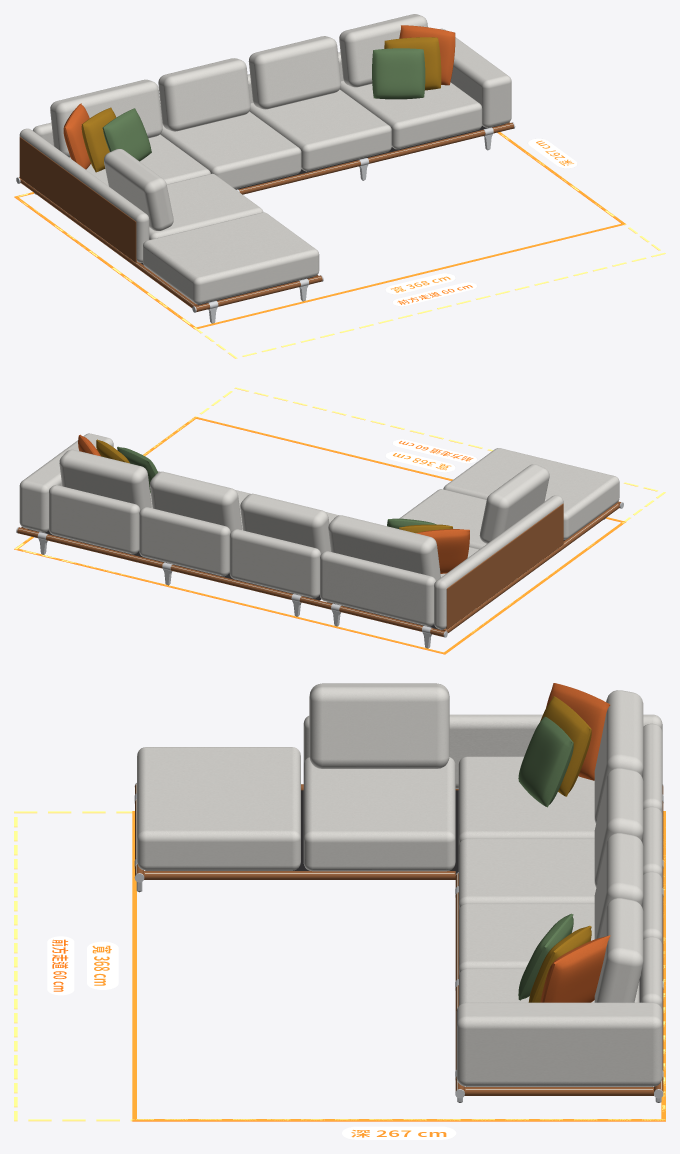
Rendered from ownLetItBe-f.glb.
The picture shows the model from 3 angles, top to bottom: view 1: azimuth 30°, elevation 25°; view 2: azimuth 150°, elevation 25°; view 3: azimuth 270°, elevation 25°; orthographic projection. The views are drawn at different scales.
Parts seen in each view (by area): view 1: object 64, object 60, object 61, ar-frame, object 67, object 59, object 66, object 58, object 63, object 68, object 56, object 69 (+12 smaller); view 2: object 64, object 55, object 58, ar-frame, object 54, object 53, object 52, object 68, object 65, object 66, object 67, object 69 (+8 smaller); view 3: object 64, object 56, object 63, object 69, ar-frame, object 61, object 62, object 60, object 57, object 65, object 68, object 67 (+16 smaller).
Boxes of the visible parts, box(x1,y1,x2,y2) form: object 64: box(143, 212, 319, 304); object 60: box(249, 89, 391, 171); object 61: box(160, 111, 301, 189); ar-frame: box(14, 132, 665, 358); object 67: box(158, 58, 250, 131); object 59: box(340, 80, 482, 149); object 66: box(248, 36, 340, 109); object 58: box(19, 137, 136, 262); object 63: box(149, 173, 263, 239); object 68: box(50, 79, 162, 157); object 56: box(439, 28, 511, 127); object 69: box(104, 149, 173, 230); object 64: box(443, 448, 619, 539); object 55: box(320, 551, 435, 626); object 58: box(446, 503, 563, 629); ar-frame: box(14, 387, 665, 654); object 54: box(229, 529, 320, 598); object 53: box(139, 507, 230, 576); object 52: box(49, 485, 140, 554); object 68: box(328, 515, 440, 580); object 65: box(59, 449, 151, 509); object 66: box(150, 471, 242, 532); object 67: box(240, 493, 330, 554); object 69: box(479, 464, 549, 543); object 64: box(137, 747, 300, 870); object 56: box(456, 1002, 662, 1086); object 63: box(303, 757, 455, 871); object 69: box(309, 683, 449, 768); ar-frame: box(14, 811, 665, 1139); object 61: box(458, 838, 596, 910); object 62: box(458, 756, 595, 845); object 60: box(458, 903, 594, 975); object 57: box(303, 714, 662, 788); object 65: box(594, 898, 643, 1002); object 68: box(594, 690, 643, 823); object 67: box(594, 768, 643, 887).
Size of the model in its own units: 3.93 by 0.8025 by 3.29.
Materials: 13 (7 with a texture image).
